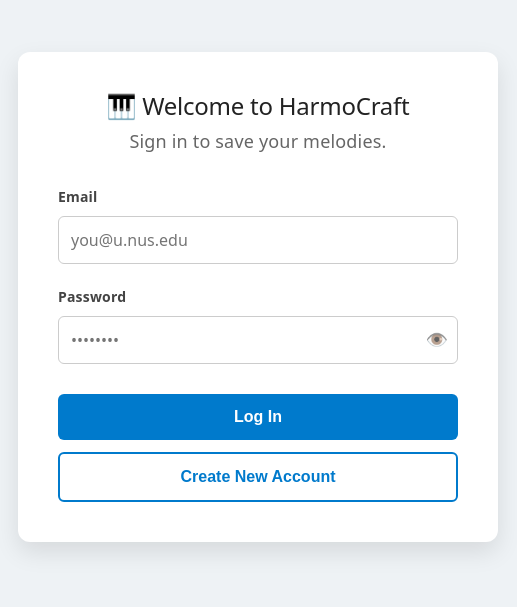
Test: Login Component › should display an error message if Supabase login fails
Note: type into the inputs and click submit
Type "test@nus.edu" into the field with placeholder "you@u.nus.edu" at (258, 240), box [58,216,458,264]
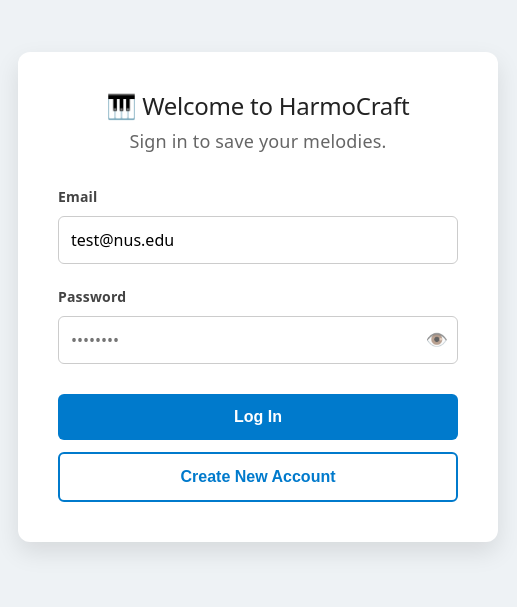
Type "wrongpassword" into the password field with placeholder "••••••••" at (258, 340), box [58,316,458,364]
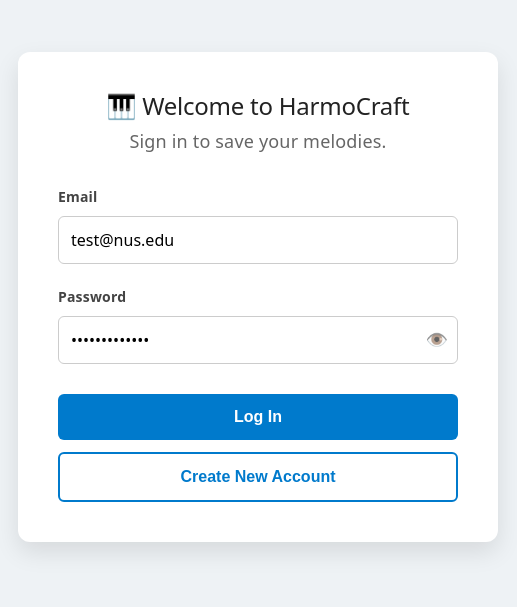
Note: use getByRole to target the specific submit button
Click the button "Log In" at (258, 417), box [58,394,458,440]
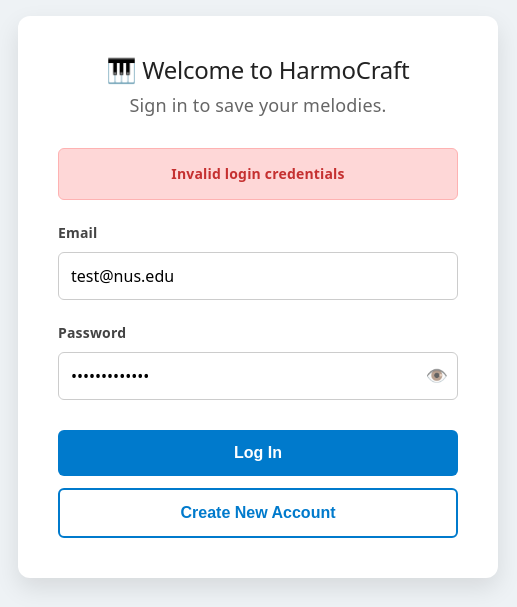
Expected: the text "Invalid login credentials" is shown, [58,148,458,200]
